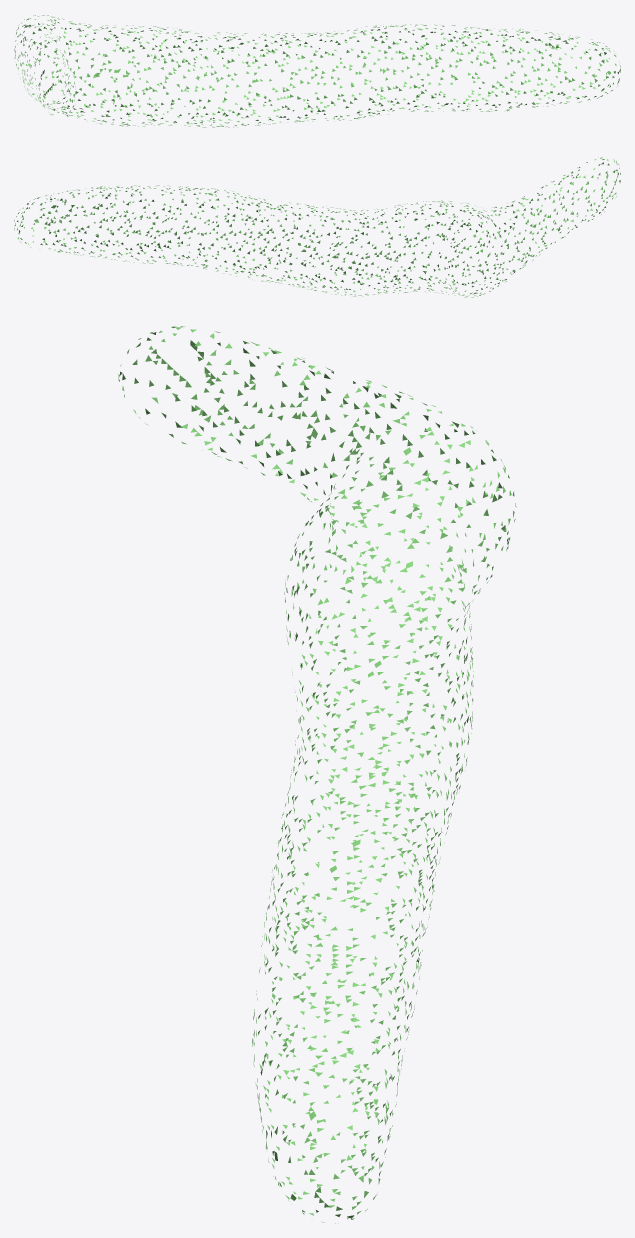
File: morph_016.glb
The picture shows the model from 3 angles, top to bottom: view 1: azimuth 30°, elevation 25°; view 2: azimuth 150°, elevation 25°; view 3: azimuth 270°, elevation 25°; orthographic projection. The views are drawn at different scales.
Size of the model in its own units: 129 by 41.95 by 40.05.
